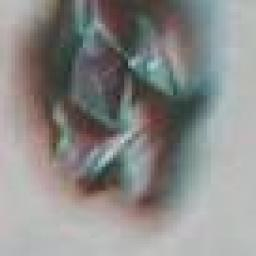crystals: (20, 0, 218, 216)
